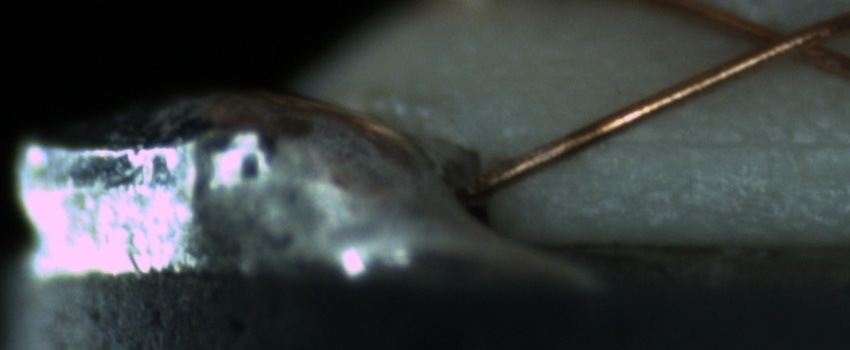CL: (734, 11, 841, 73)
DL: (576, 111, 844, 177)
